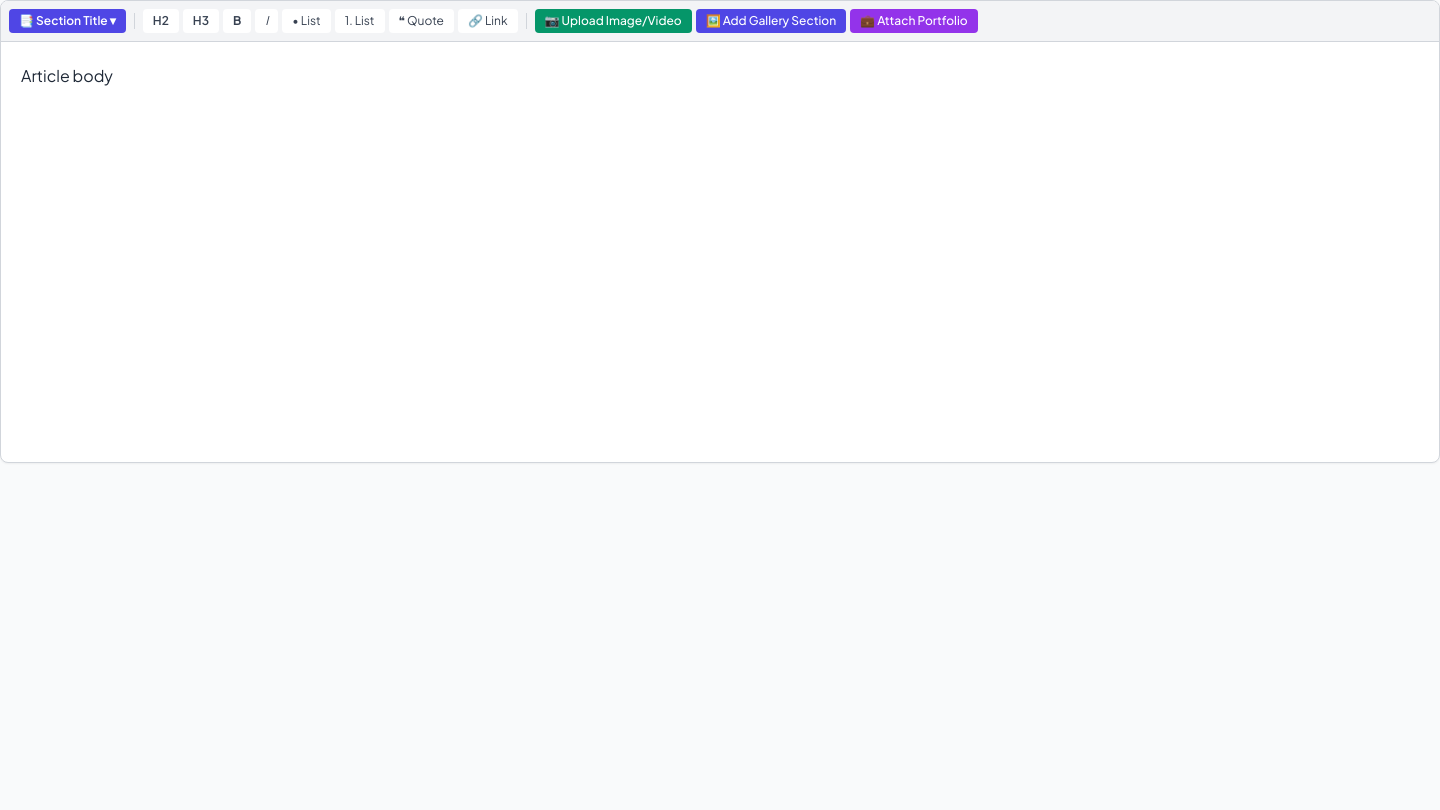
Test: Content Migration & WYSIWYG Editor with Gallery Controls › opens portfolio attachment modal, allows search, strictly omits hidden portfolios, and inserts PortfolioEmbedNode into editor
Click the button with test id "attach-portfolio-btn" at (914, 21), box 850,9 -> 978,33
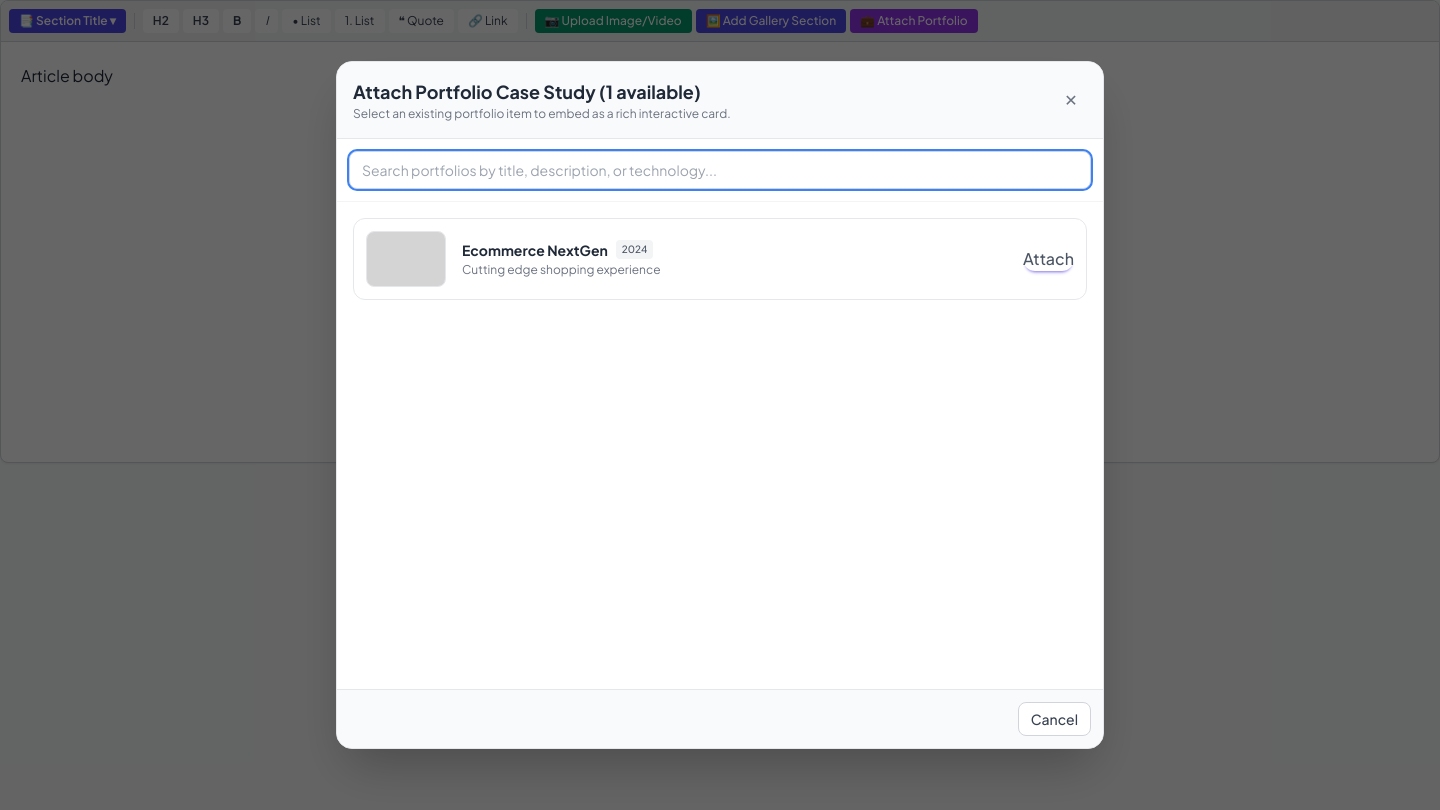
expect the element with test id "portfolio-select-modal" is shown: met
expect the heading "Attach Portfolio Case Study (1 available)" is shown: met, box 353,78 -> 731,106
expect the heading "Ecommerce NextGen" is shown: met, box 462,240 -> 608,260
Type "Ecommerce" into the field with test id "portfolio-search-input" at (720, 170), box 349,151 -> 1091,189
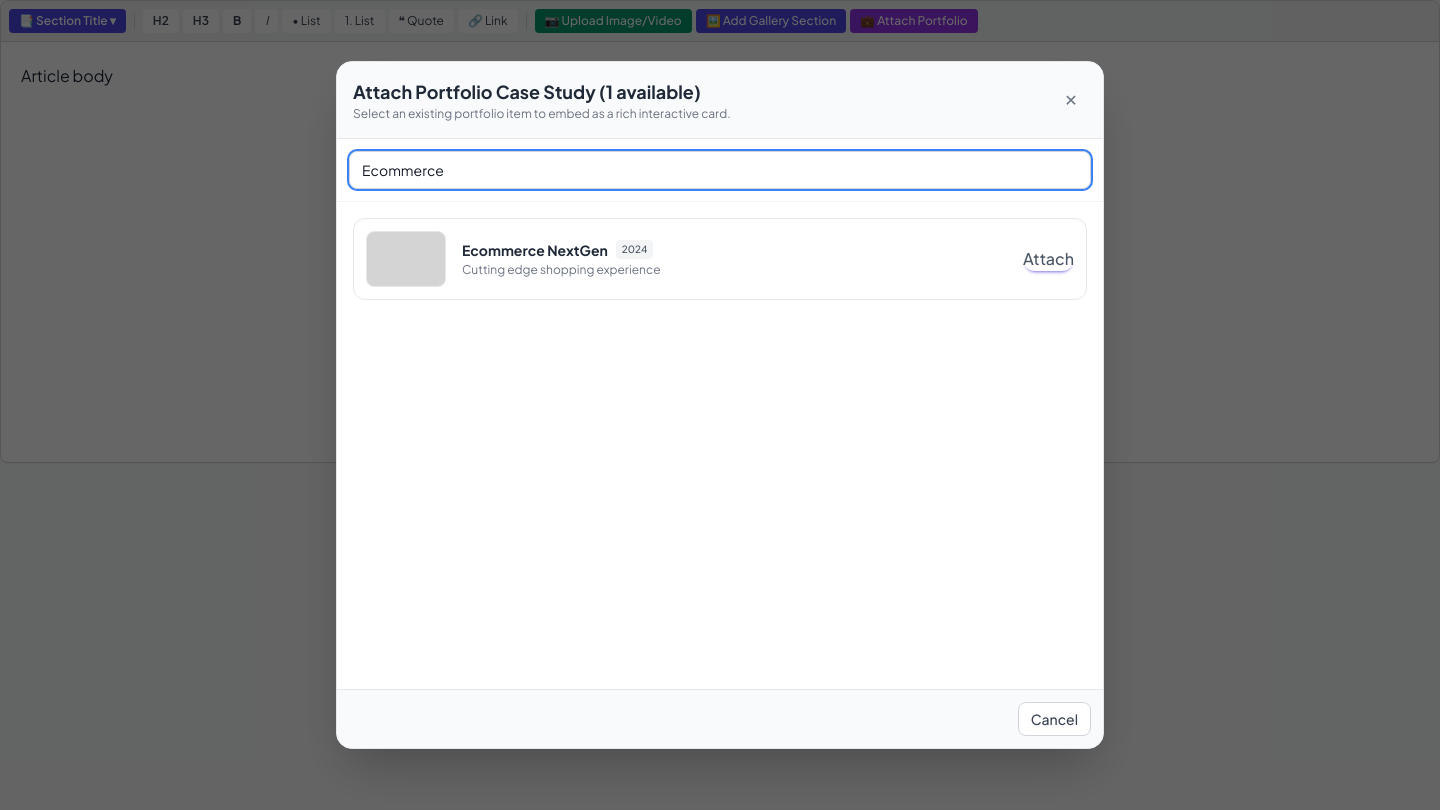
expect the heading "Ecommerce NextGen" is shown: met, box 462,240 -> 608,260
Click the element with test id "select-portfolio-item-port-123" at (720, 259), box 353,218 -> 1087,300
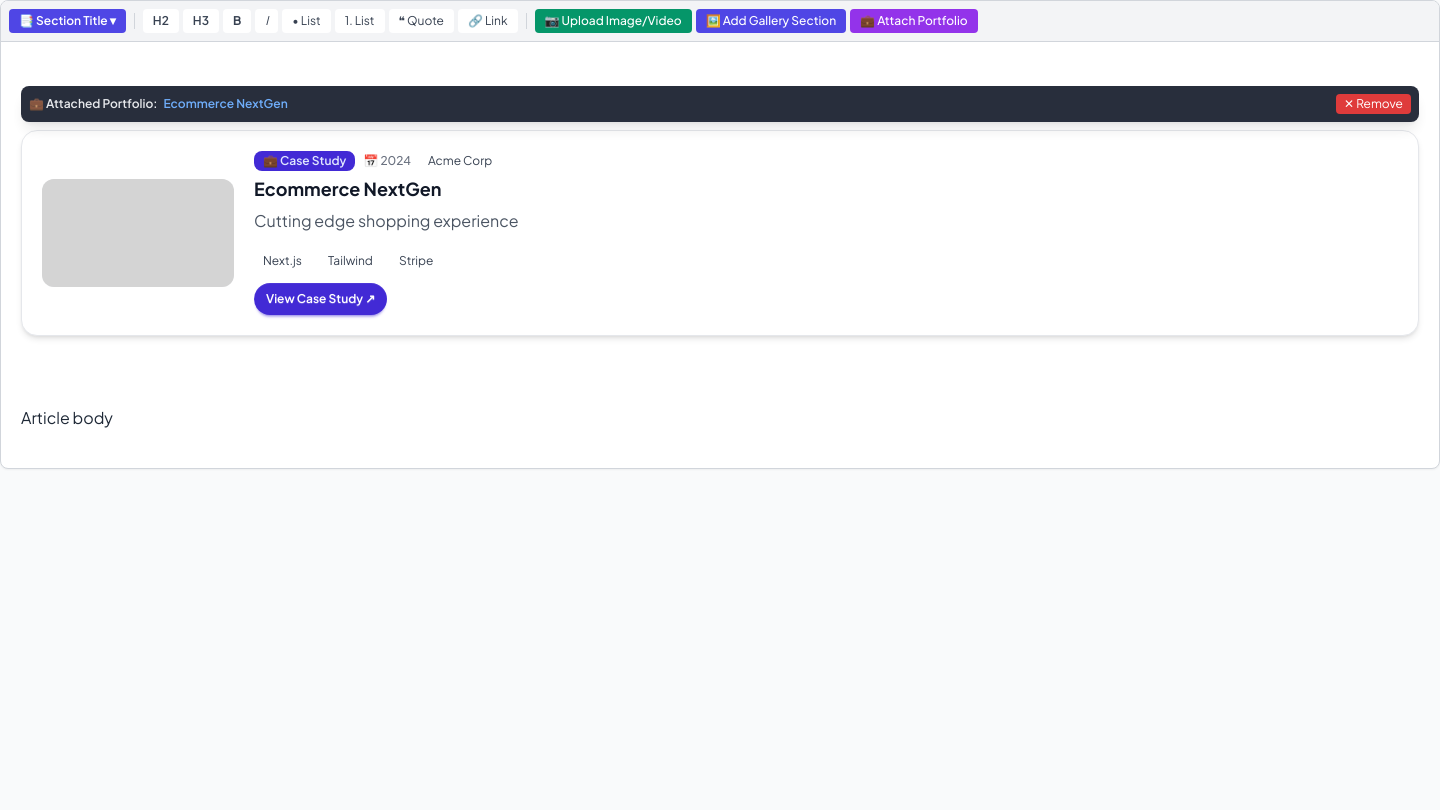
expect the element with test id "portfolio-embed-node" is shown: met, box 21,86 -> 1419,336
expect the text "💼 Attached Portfolio:" is shown: met, box 29,96 -> 157,112
# Test remove button
Click the button with test id "remove-portfolio-embed-btn" at (1374, 104), box 1336,94 -> 1411,114
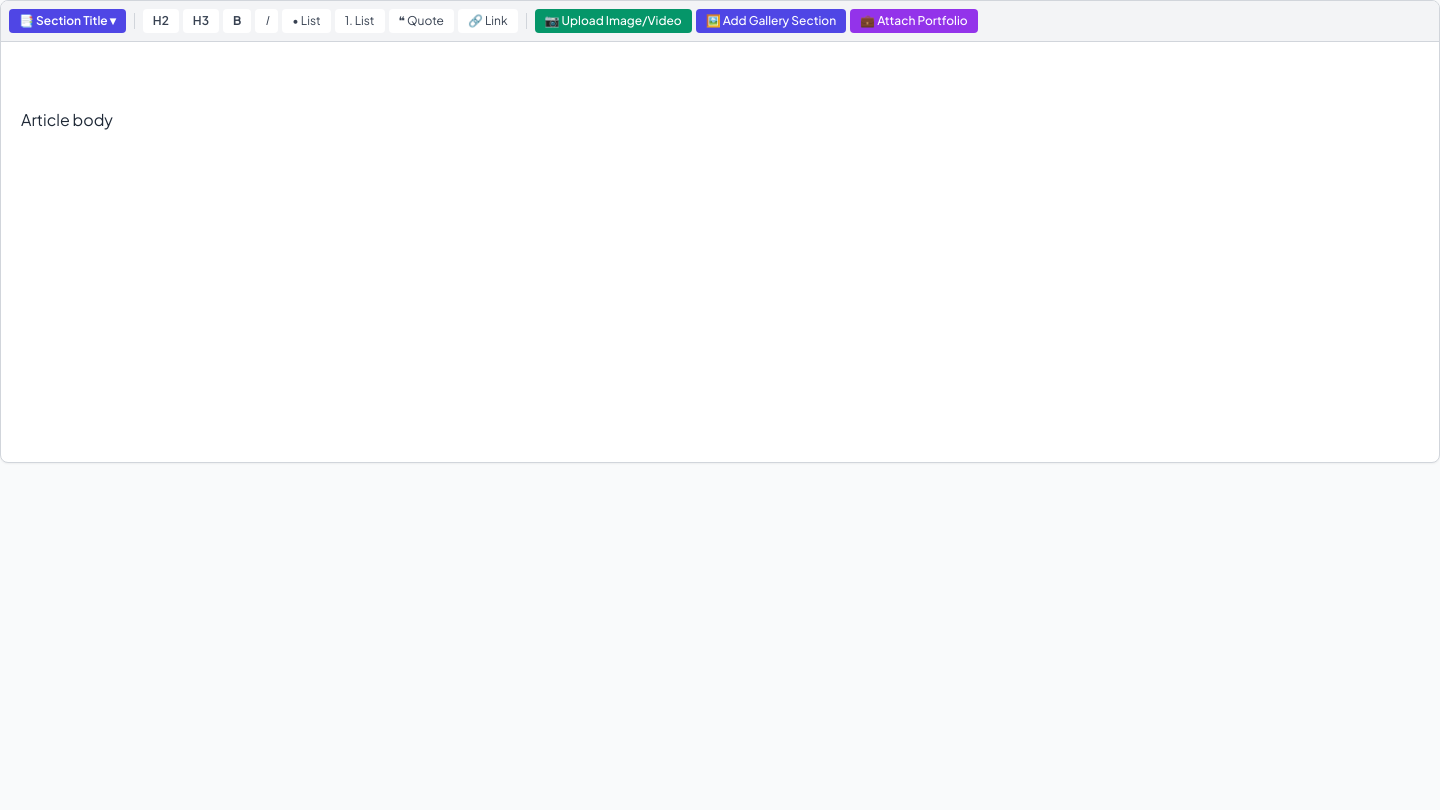
expect the element with test id "portfolio-embed-node" is gone: met
